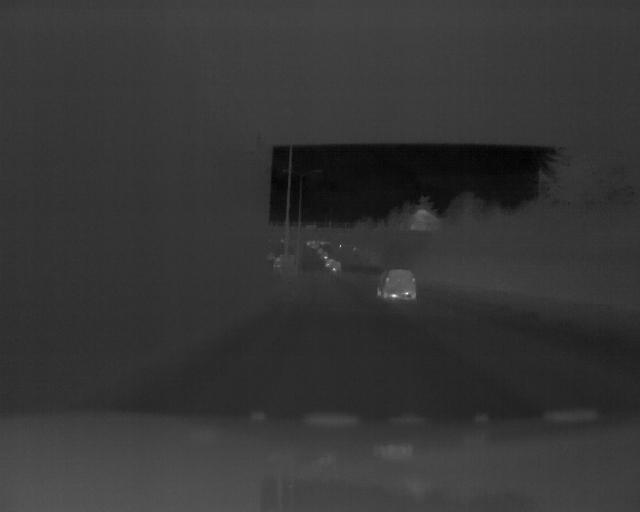car: (373, 267, 418, 302)
